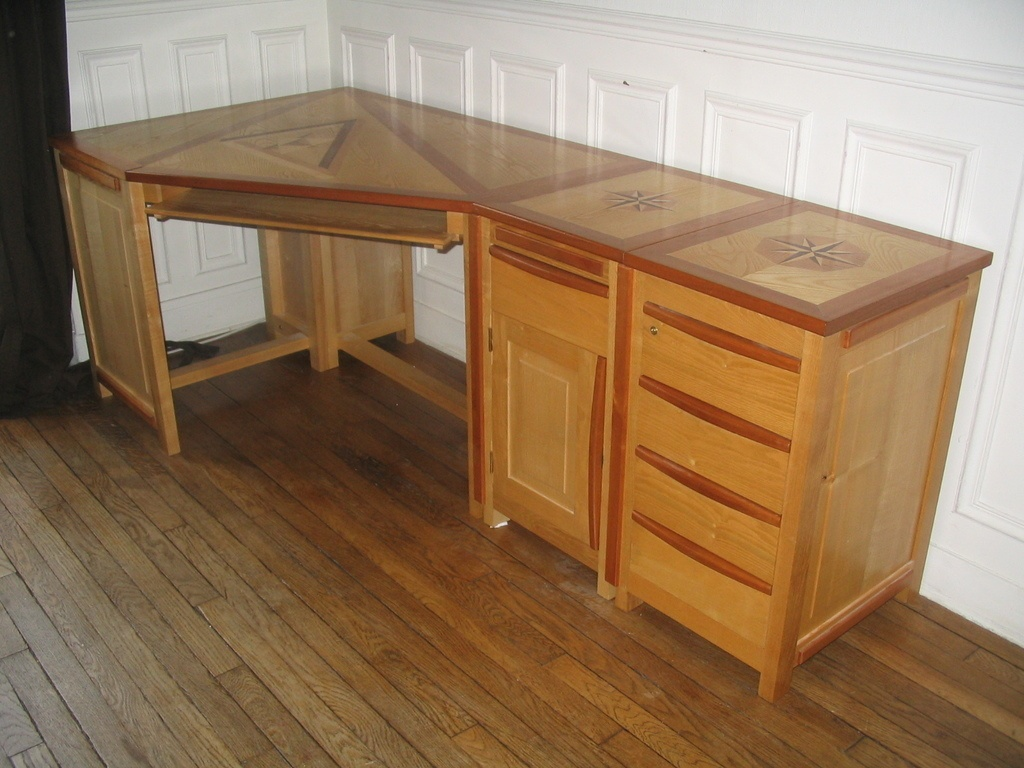Table: (582, 285, 903, 500)
